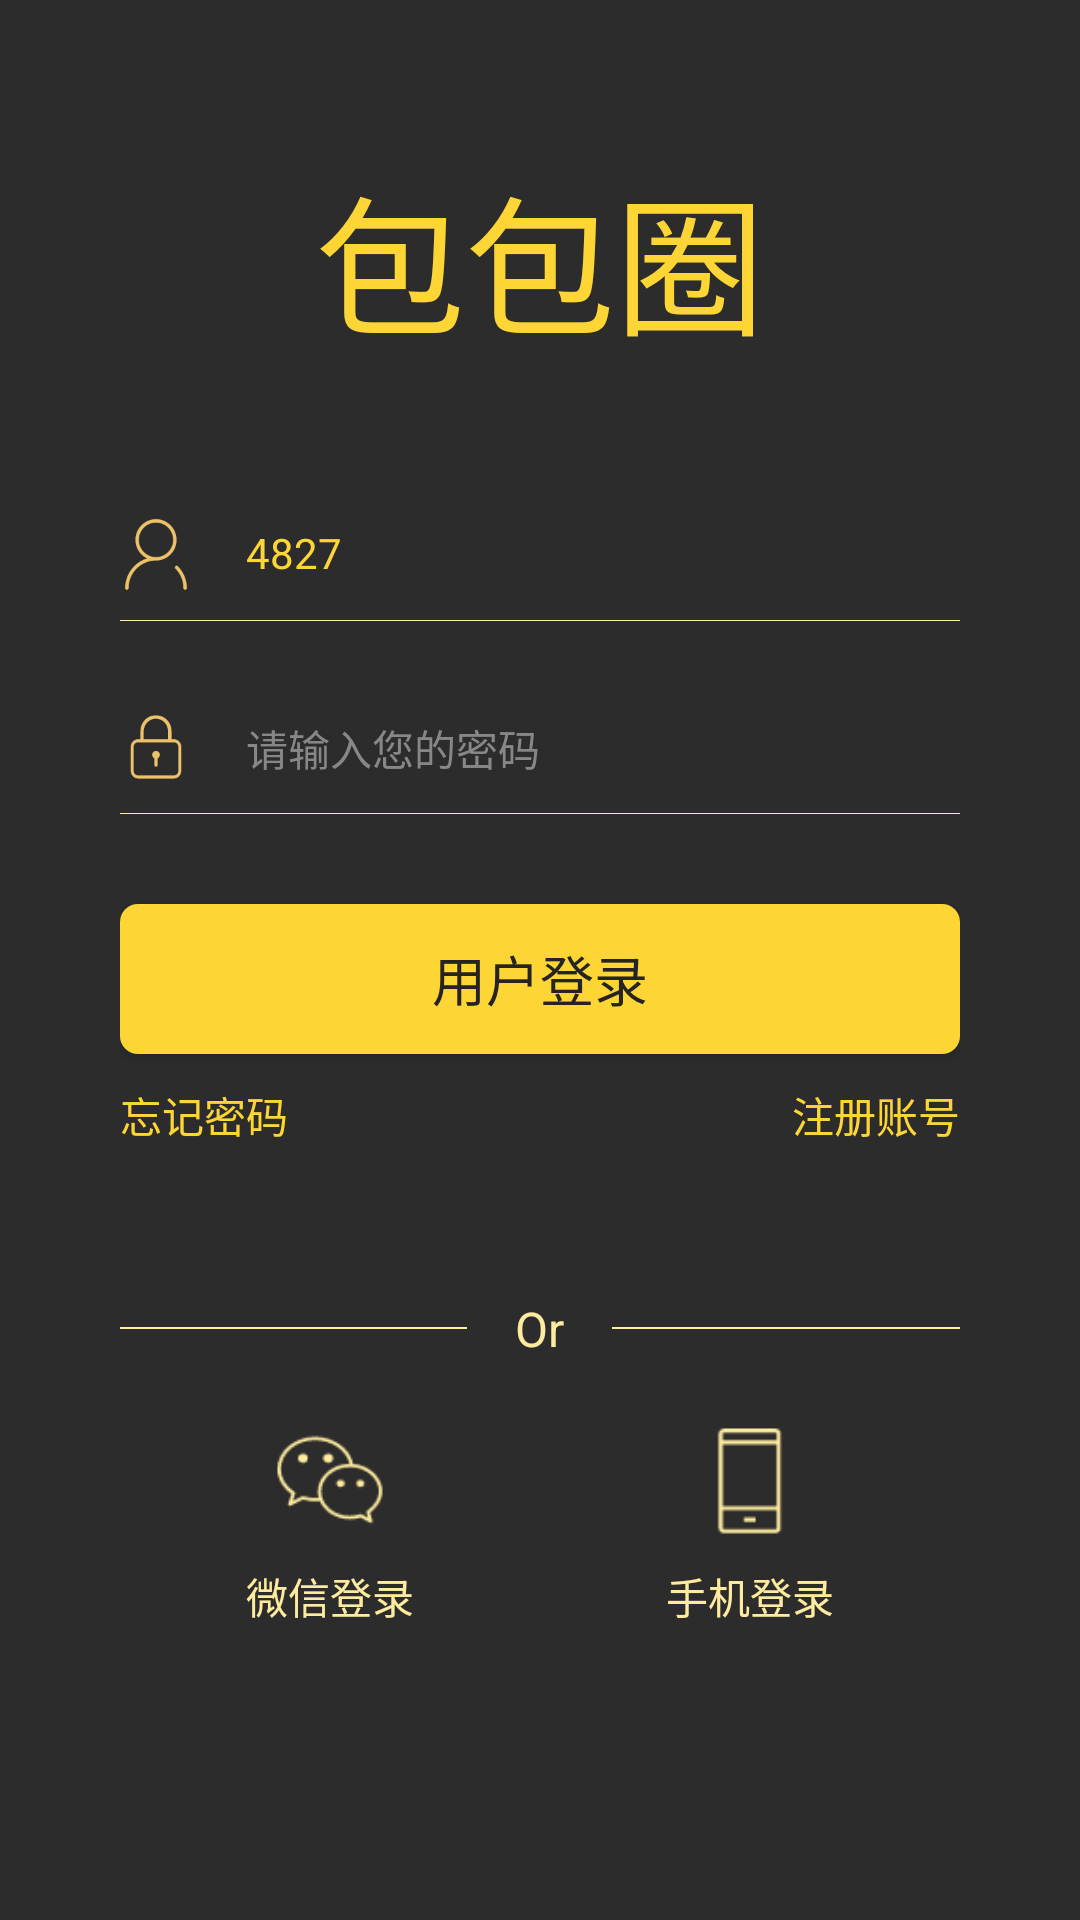

Icons on this 1080 × 1920 Android screen, each with the point to tap as point (x, y):
socket icom password: point (156, 747)
socket icom username: point (156, 554)
